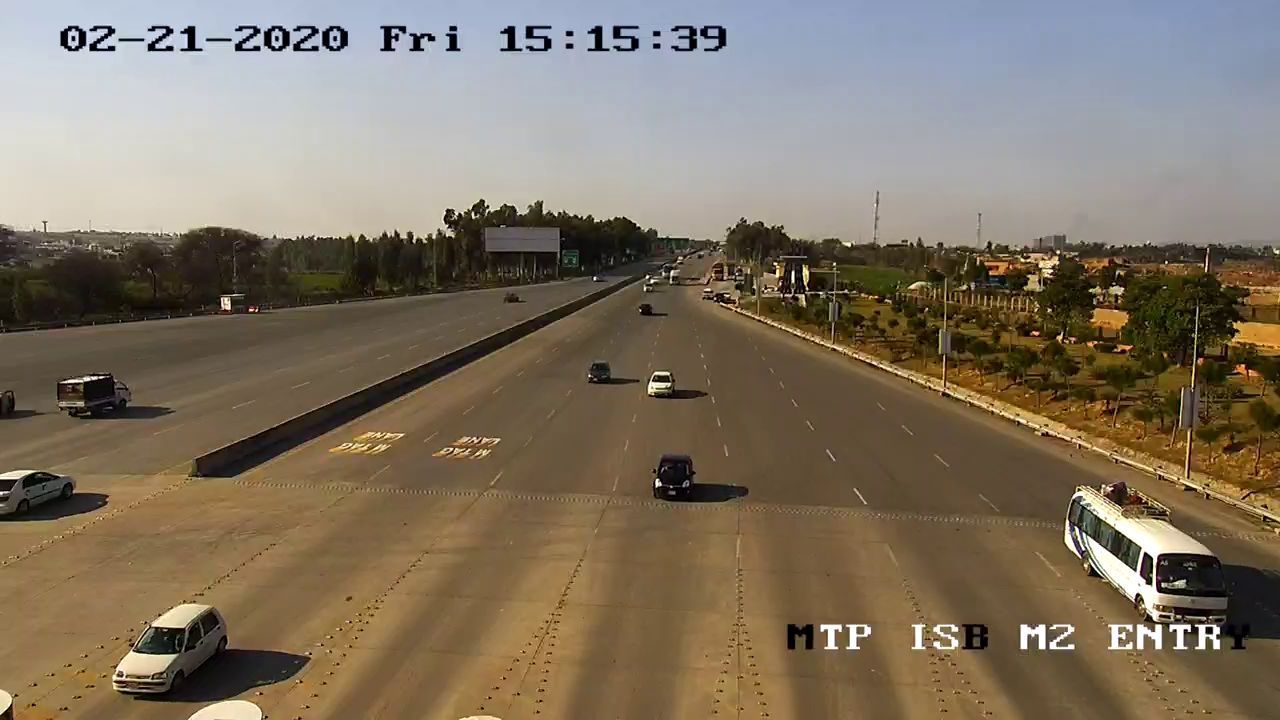f1: (99, 599, 239, 703), (644, 444, 702, 507)
f3: (1055, 474, 1237, 633)
